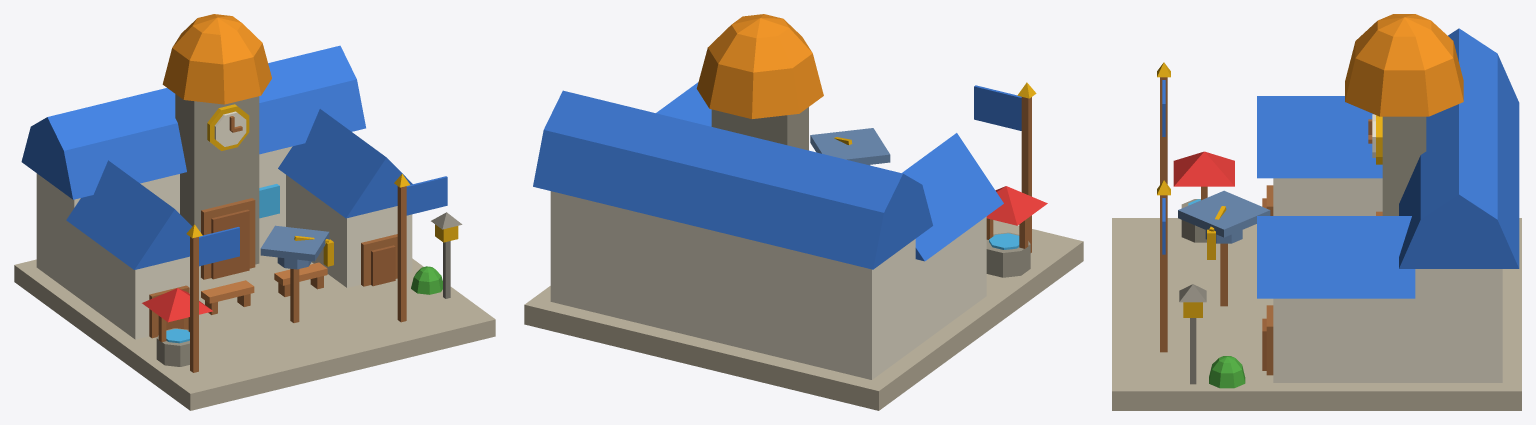
Rendered from university_t2_v3.glb.
3 views of the same model, side by side, from view 1: azimuth 30°, elevation 25°; view 2: azimuth 150°, elevation 25°; view 3: azimuth 270°, elevation 25° (orthographic). The views are drawn at different scales.
Visible parts, largest first — view 1: university_t2_v3; view 2: university_t2_v3; view 3: university_t2_v3.
Part boxes in pixels (x1=…): university_t2_v3: x1=14, y1=14, x2=495, y2=410; university_t2_v3: x1=524, y1=14, x2=1083, y2=410; university_t2_v3: x1=1112, y1=14, x2=1521, y2=410.
Size of the model in its own units: 0.75 by 0.62 by 0.75.
1 material, 1 textured.
